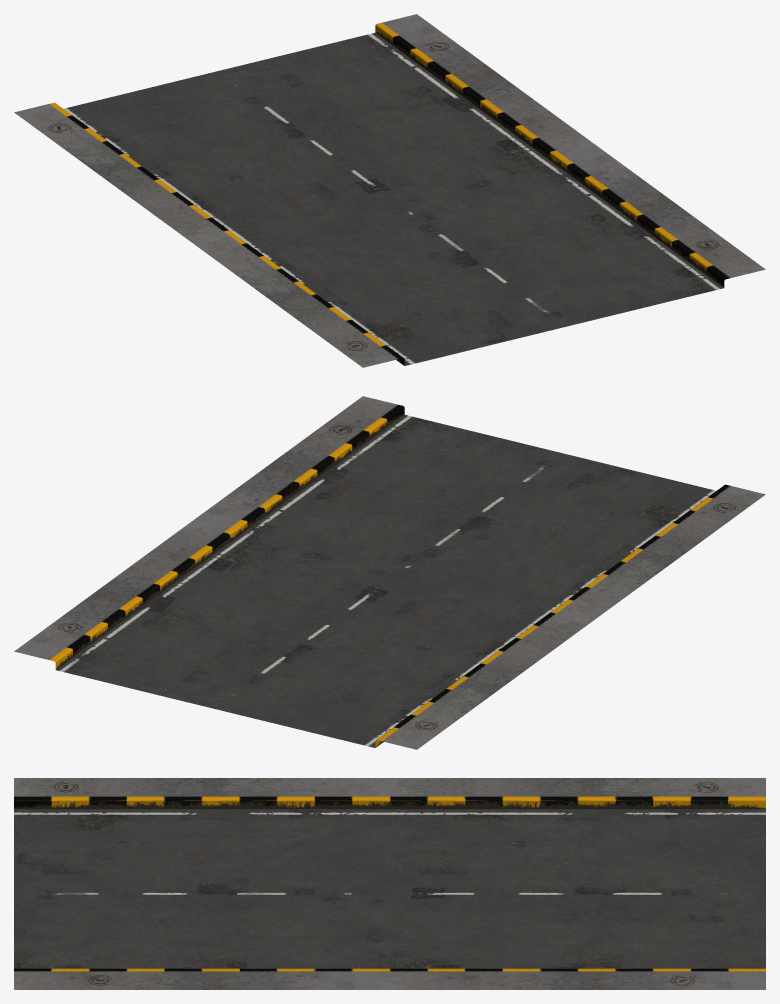
File: Road.fbx
3 views of the same model, one above another, from view 1: azimuth 30°, elevation 25°; view 2: azimuth 150°, elevation 25°; view 3: azimuth 270°, elevation 25° (orthographic). The views are drawn at different scales.
Parts seen in each view (by area): view 1: road; view 2: road; view 3: road.
Part boxes in pixels (x1=…): road: x1=14, y1=14, x2=765, y2=367; road: x1=14, y1=396, x2=765, y2=749; road: x1=14, y1=778, x2=765, y2=989.
Bounding box in the file's own units: 10000 × 200 × 15000.
